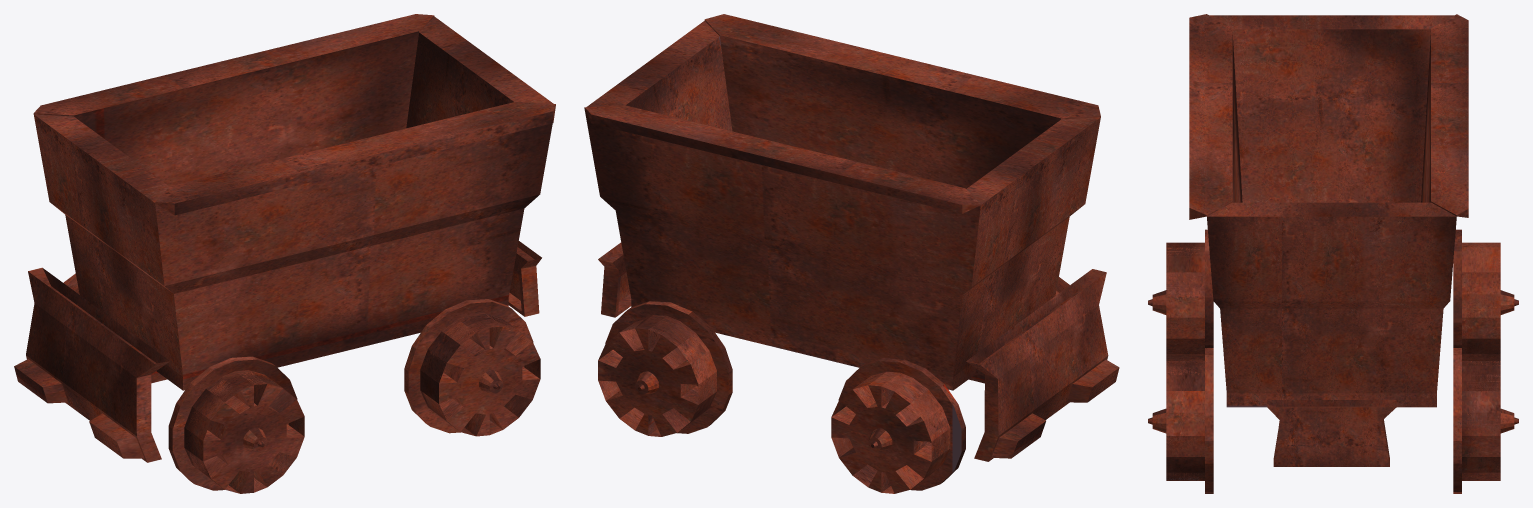
File: MiningKart.fbx
3 renders of one model, left to right at view 1: azimuth 30°, elevation 25°; view 2: azimuth 150°, elevation 25°; view 3: azimuth 270°, elevation 25°, orthographic. The views are drawn at different scales.
Visible parts, largest first — view 1: MiningKart; view 2: MiningKart; view 3: MiningKart.
Boxes of the visible parts, x1=… form: MiningKart: x1=14, y1=14, x2=555, y2=493; MiningKart: x1=584, y1=14, x2=1119, y2=493; MiningKart: x1=1148, y1=14, x2=1518, y2=493.
Bounding box in the file's own units: 423 × 280 × 297.
1 material, 1 textured.
